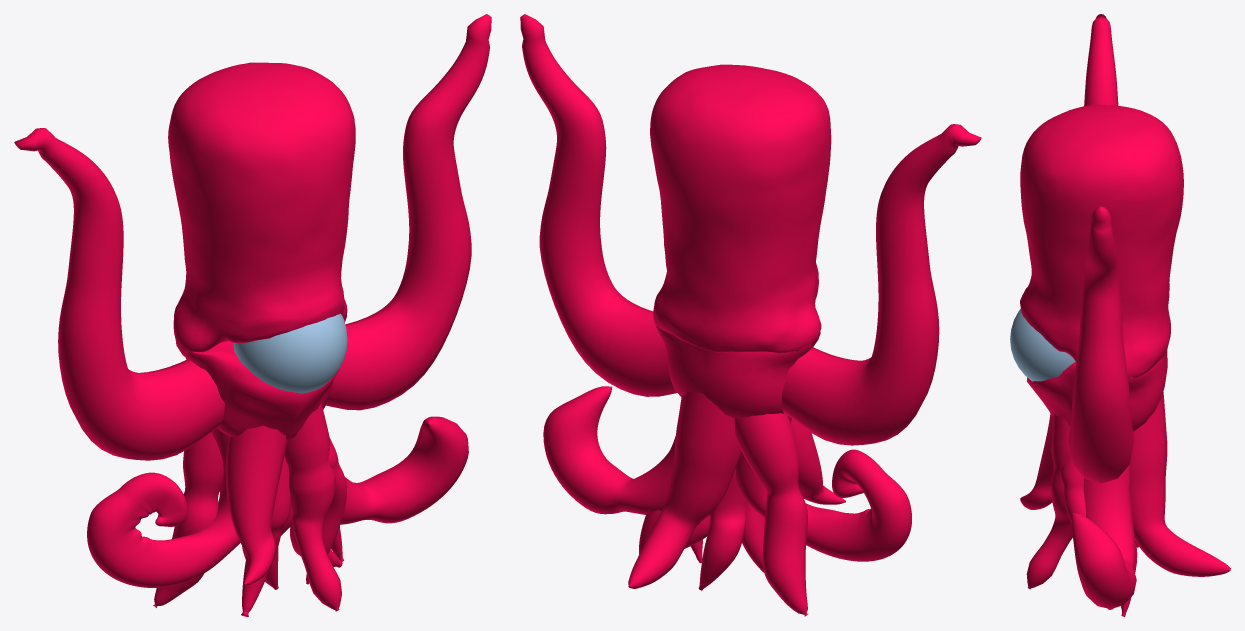
The model's file is octopus.fbx.
3 views of the same model, side by side, from view 1: azimuth 30°, elevation 25°; view 2: azimuth 150°, elevation 25°; view 3: azimuth 270°, elevation 25° (orthographic). The views are drawn at different scales.
Visible parts, largest first — view 1: Cube.001, NurbsPath, NurbsPath.001, NurbsPath.002, NurbsPath.003, NurbsPath.006, NurbsPath.005, Sphere, NurbsPath.010, NurbsPath.007, NurbsPath.008; view 2: Cube.001, NurbsPath, NurbsPath.001, NurbsPath.011, NurbsPath.002, NurbsPath.003, NurbsPath.010, NurbsPath.004, NurbsPath.005, NurbsPath.007; view 3: Cube.001, NurbsPath.001, NurbsPath.003, NurbsPath.011, NurbsPath.006, Sphere, NurbsPath, NurbsPath.005, NurbsPath.008.
Part boxes in pixels (box(x1,y1,x2,y2)): Cube.001: box(168, 62, 355, 440); NurbsPath: box(14, 128, 224, 460); NurbsPath.001: box(325, 14, 491, 410); NurbsPath.002: box(87, 428, 240, 587); NurbsPath.003: box(325, 416, 468, 524); NurbsPath.006: box(284, 403, 341, 611); NurbsPath.005: box(225, 425, 287, 585); Sphere: box(233, 313, 347, 393); NurbsPath.010: box(153, 432, 223, 607); NurbsPath.007: box(241, 456, 291, 616); NurbsPath.008: box(306, 438, 346, 584); Cube.001: box(650, 64, 831, 419); NurbsPath: box(781, 124, 981, 445); NurbsPath.001: box(520, 14, 677, 396); NurbsPath.011: box(628, 391, 741, 588); NurbsPath.002: box(736, 416, 911, 561); NurbsPath.003: box(543, 386, 675, 514); NurbsPath.010: box(734, 413, 808, 616); NurbsPath.004: box(698, 468, 746, 590); NurbsPath.005: box(790, 419, 845, 504); NurbsPath.007: box(742, 502, 764, 572); Cube.001: box(1020, 105, 1183, 431); NurbsPath.001: box(1068, 206, 1133, 483); NurbsPath.003: box(1071, 469, 1136, 608); NurbsPath.011: box(1129, 392, 1230, 576); NurbsPath.006: box(1026, 414, 1072, 589); Sphere: box(1010, 309, 1075, 381); NurbsPath: box(1084, 14, 1118, 105); NurbsPath.005: box(1020, 414, 1053, 509); NurbsPath.008: box(1060, 458, 1085, 524).
Bounding box in the file's own units: 662 × 715 × 299.
